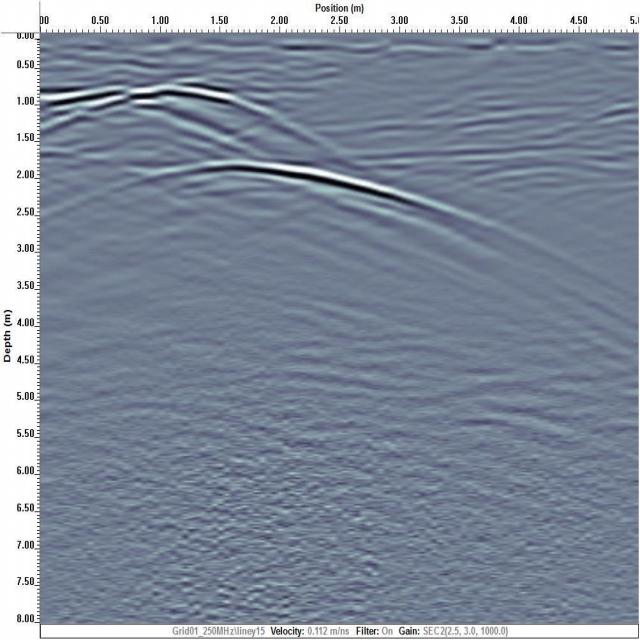hyperbola: (152, 149, 440, 229), (67, 69, 287, 140)
